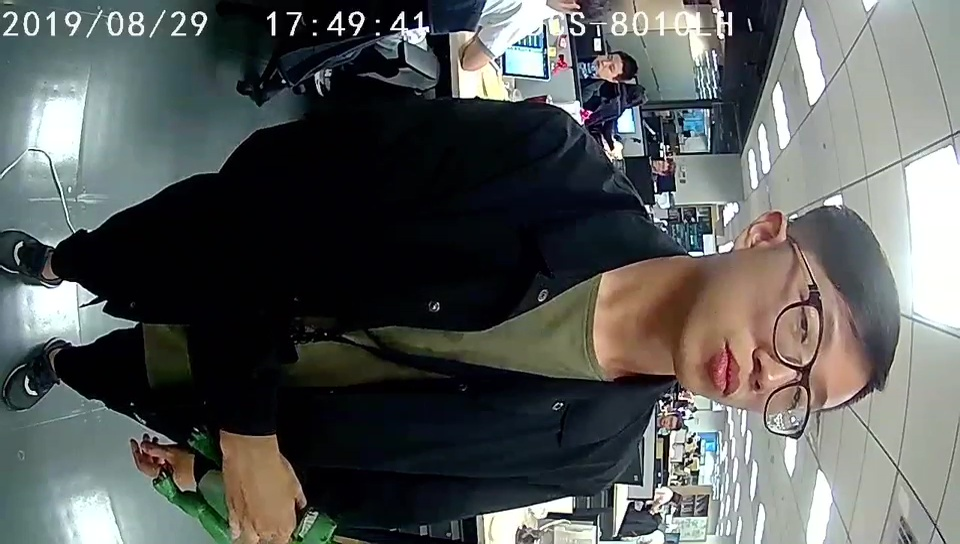rex: (149, 426, 339, 544)
